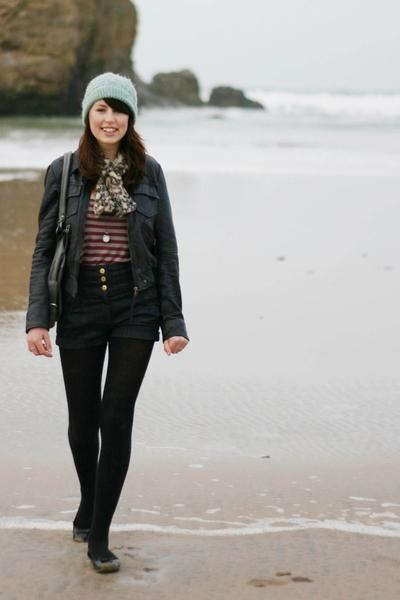bag: (51, 239, 63, 274)
hat: (84, 72, 155, 124)
jacket: (26, 156, 189, 340)
pants: (56, 332, 153, 559)
shirt: (88, 206, 125, 260)
shoe: (73, 506, 119, 574)
shorts: (45, 252, 167, 347)
